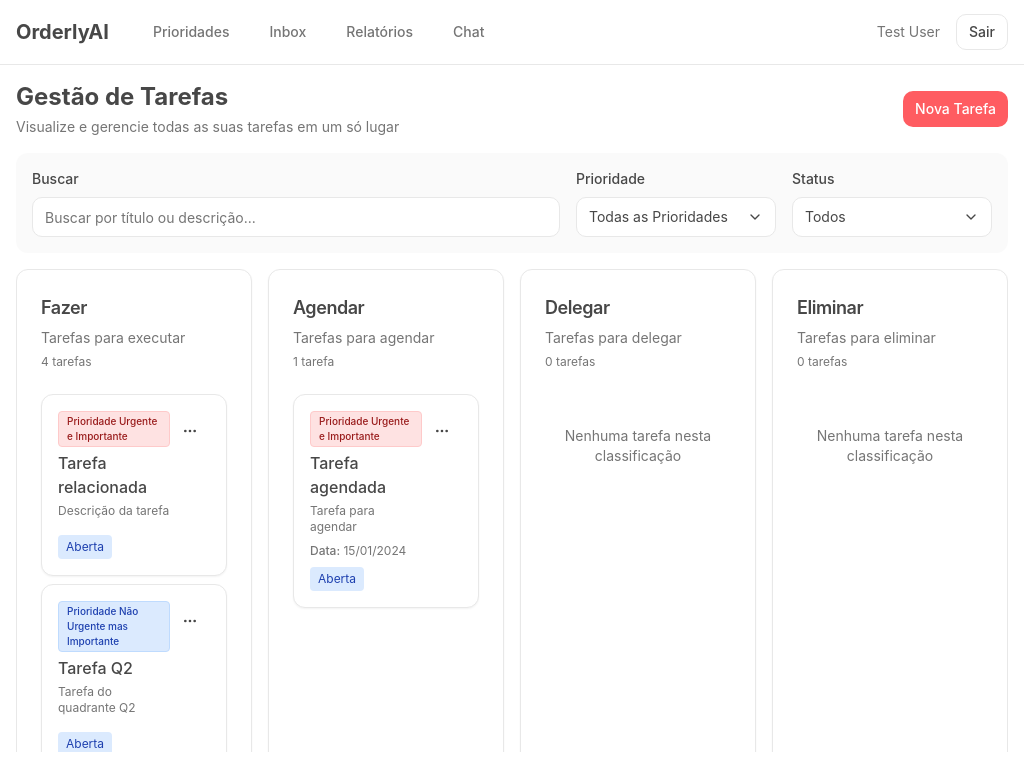
AllTasksPage › Exclusão de Tarefa › deve abrir dialog de confirmação ao clicar em Deletar
Expected: the heading "Gestão de Tarefas" is shown, [16, 82, 228, 111]
Expected: the heading "Tarefa relacionada" is shown, [58, 453, 147, 497]
Click the 3rd button. click: coordinates (190, 431)
box: [170, 411, 210, 451]
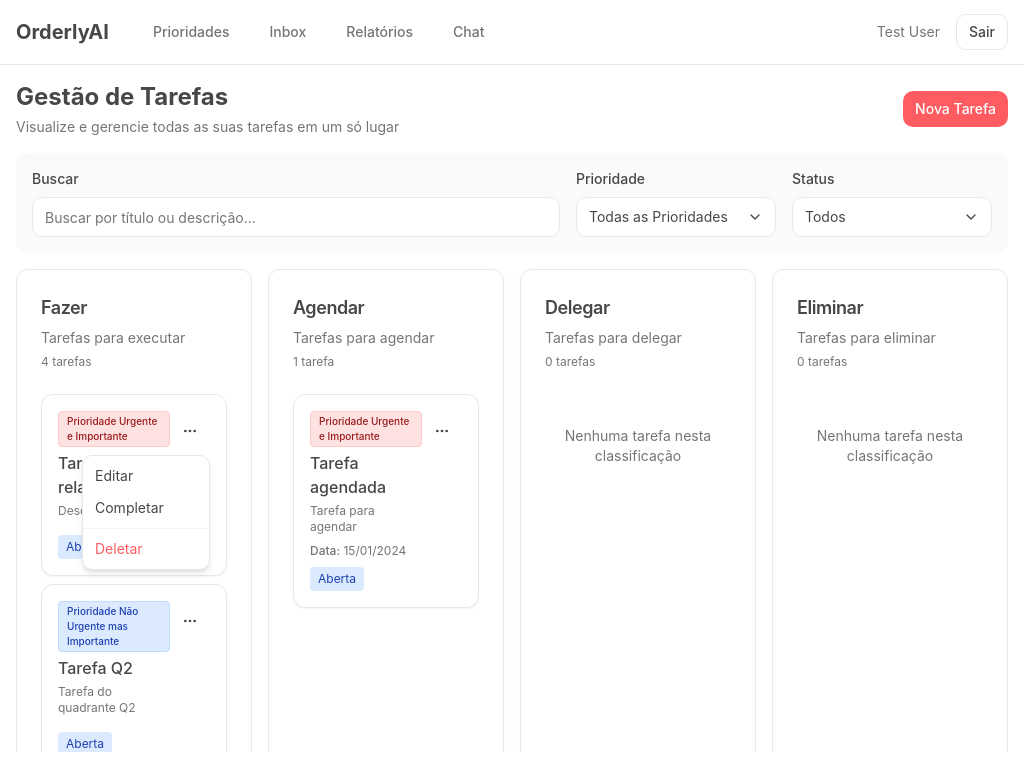
Expected: the menu item "Deletar" is shown
Click the menu item "Deletar". click: coordinates (119, 548)
box: [95, 540, 143, 557]
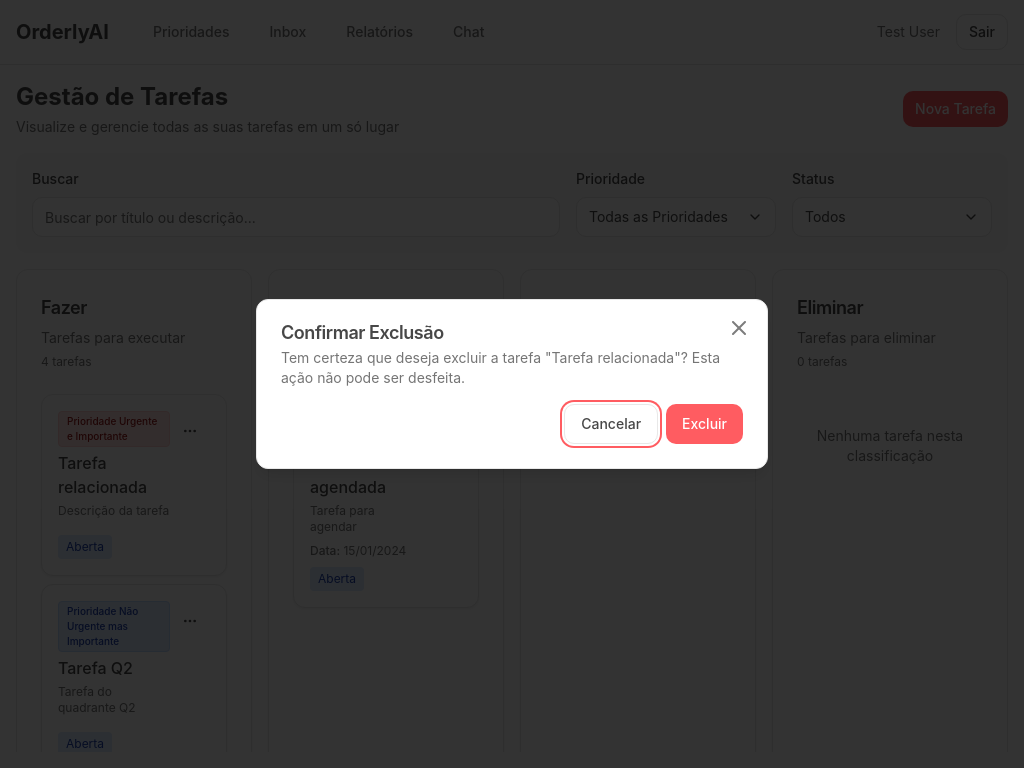
Expected: the dialog "Confirmar Exclusão" is shown, [256, 299, 768, 469]
